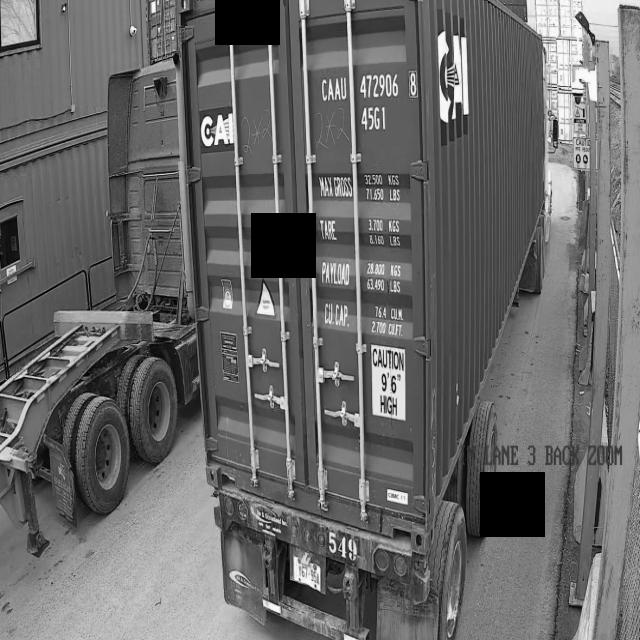container_company_logo: (200, 102, 240, 153)
container_number: (322, 64, 416, 146)
license_plate: (288, 546, 327, 594)
other_container_info: (316, 168, 411, 339)
truck_with_container: (176, 0, 557, 640)
truck_without_container: (0, 207, 200, 551), (108, 65, 178, 233)
